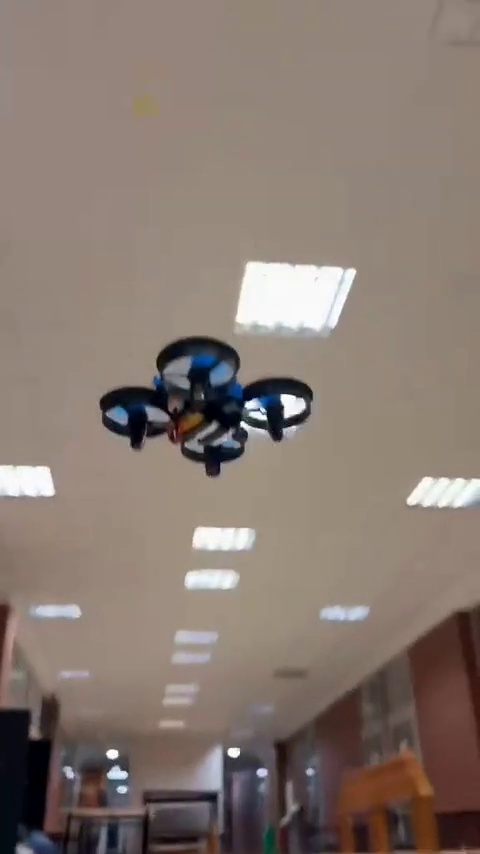drone: (93, 339, 307, 475)
